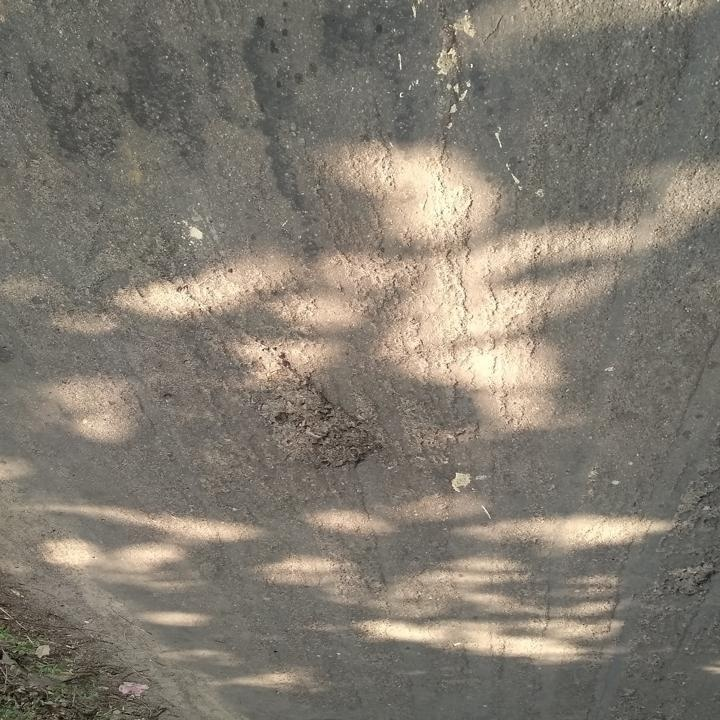pothole: (253, 337, 385, 475), (662, 558, 720, 599)
